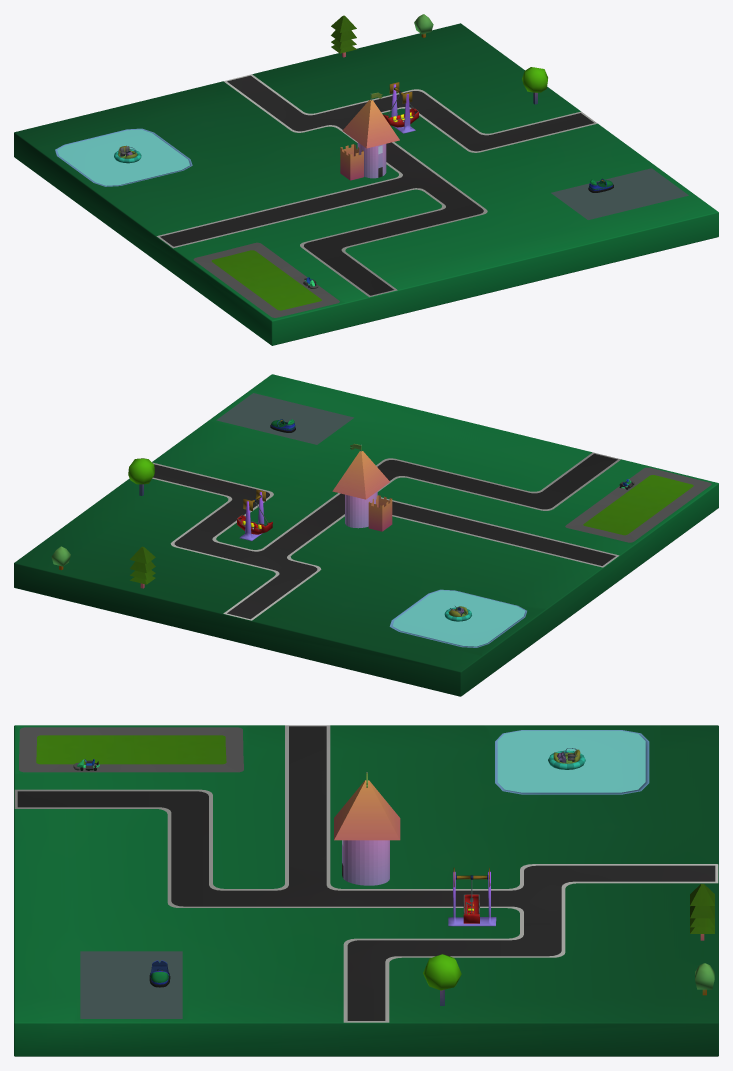
The model's file is AmusementPark.glb.
The picture shows the model from 3 angles, top to bottom: view 1: azimuth 30°, elevation 25°; view 2: azimuth 150°, elevation 25°; view 3: azimuth 270°, elevation 25°; orthographic projection. The views are drawn at different scales.
Visible parts, largest first — view 1: base, water, main, fort, tree1, tree, piller; view 2: base, water, main, fort, tree1, tree, piller; view 3: base, water, main, tree1, tree, piller, bumperboat, hangboat.
Boxes of the visible parts, x1,y1,x2,y2 form: base: (14,23,718,345); water: (57,129,189,185); main: (342,92,399,178); fort: (340,144,363,180); tree1: (331,15,356,57); tree: (522,67,547,104); piller: (389,82,415,133); base: (14,374,718,696); water: (393,590,525,646); main: (332,443,389,528); fort: (368,495,392,531); tree1: (130,546,155,588); tree: (128,458,154,495); piller: (239,489,265,541); base: (14,725,718,1056); water: (497,730,645,792); main: (334,772,400,885); tree1: (690,884,714,940); tree: (423,954,461,1005); piller: (448,867,496,926); bumperboat: (548,748,585,769); hangboat: (463,880,479,923).
Bounding box in the file's own units: 6.4 × 1.4 × 6.4.
2 materials, 2 textured.
